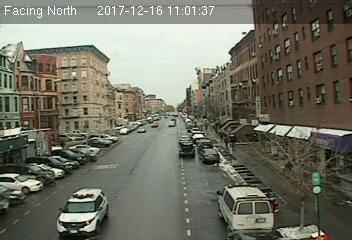car: (199, 148, 219, 164), (179, 142, 195, 157)
police: (216, 181, 277, 237), (54, 187, 111, 238)
